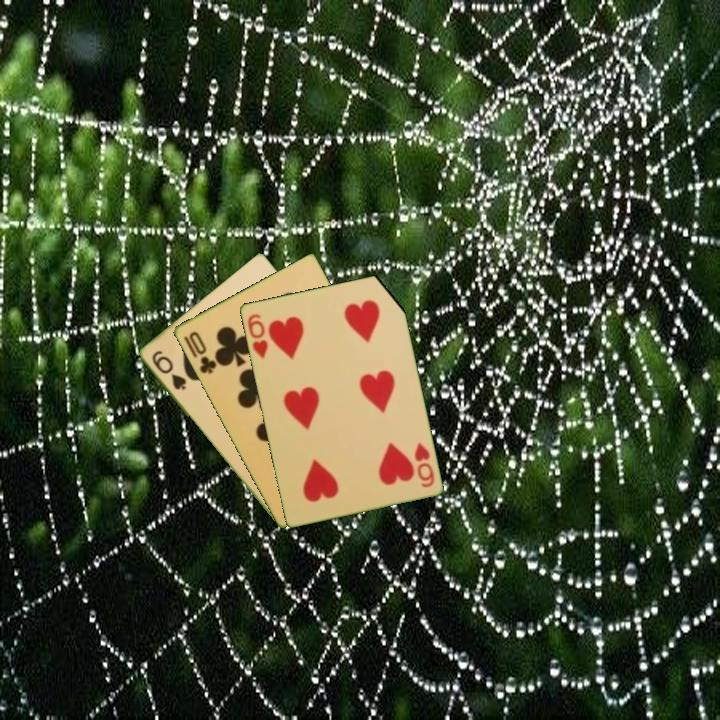10c: (185, 328, 219, 377)
6h: (244, 310, 270, 361), (411, 439, 437, 490)
6s: (148, 347, 189, 393)
